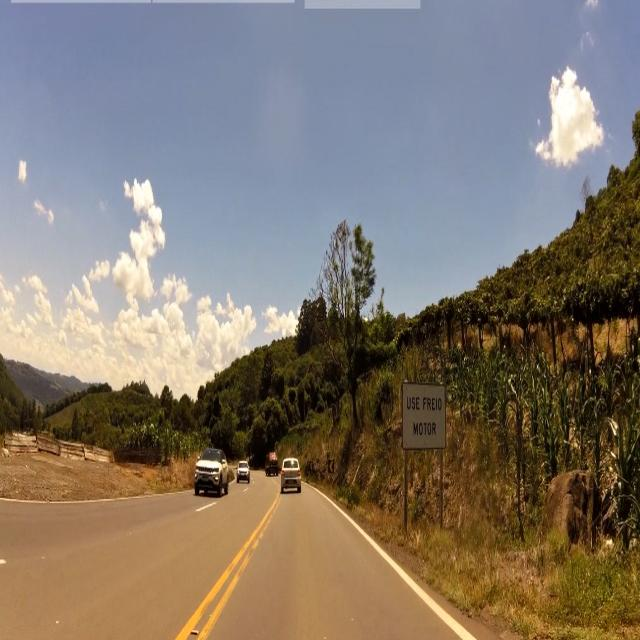E-5: (401, 378, 449, 449)
